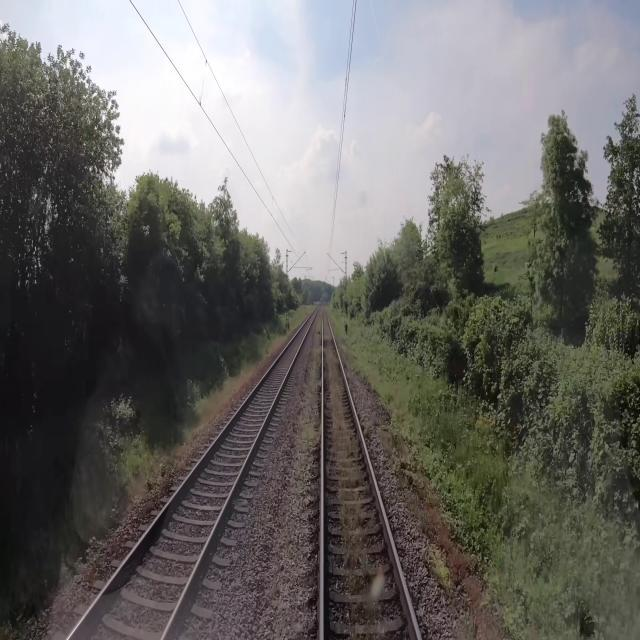Plant: (379, 421, 516, 639), (324, 344, 387, 639), (294, 332, 322, 449)
